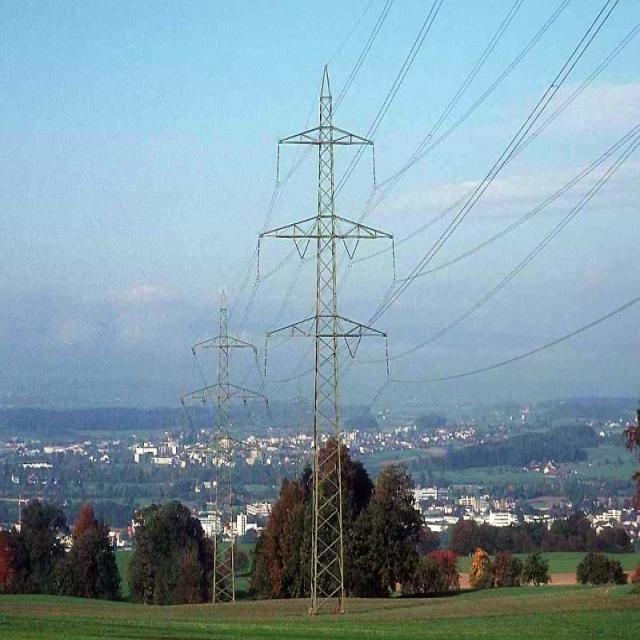non-critical vegetation: (252, 65, 381, 590), (192, 294, 248, 600)
